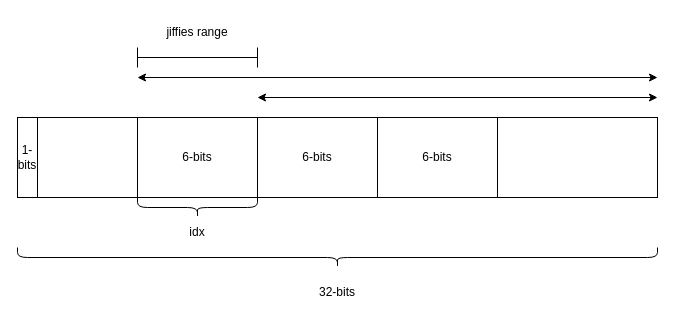
The diagram is 684 pixels wide and 324 high, and some of its shapes have lost their labels. Here are the shapes that lost their labels. From the top down, the box of each, then its label:
(36, 116, 138, 198): 5-bits
(496, 116, 658, 198): 8-bits
